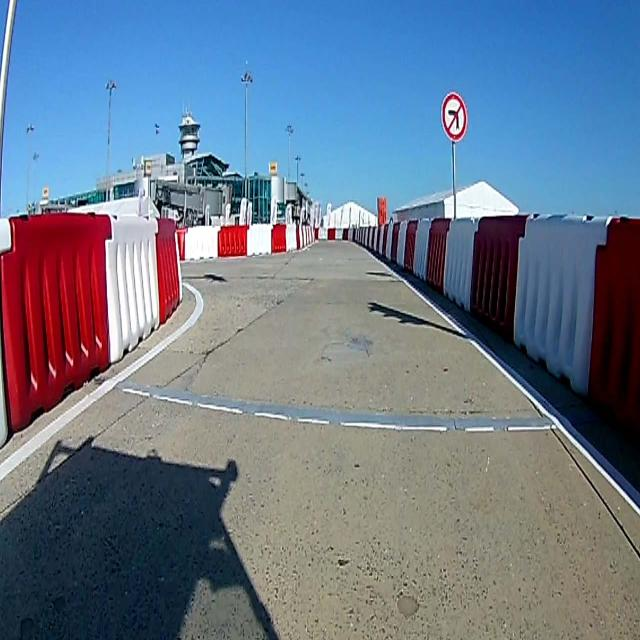soladonulmez: (442, 92, 468, 140)
